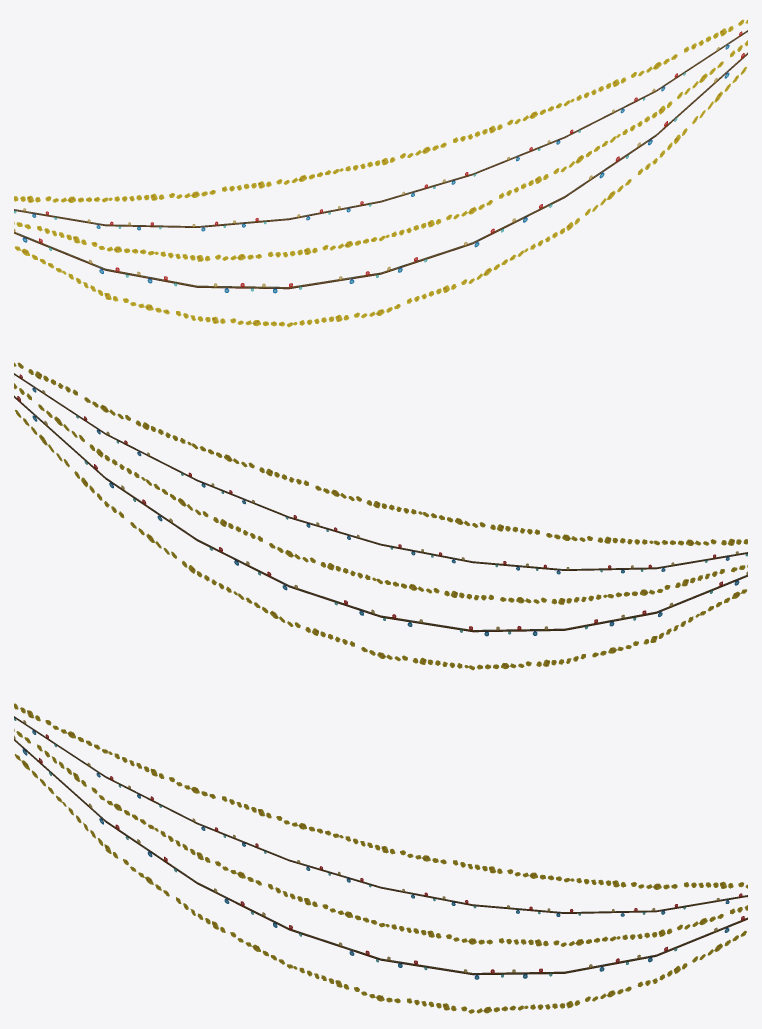
Rendered from christmas_light.FBX.
The picture shows the model from 3 angles, top to bottom: view 1: azimuth 30°, elevation 25°; view 2: azimuth 150°, elevation 25°; view 3: azimuth 330°, elevation 25°; orthographic projection.
Visible parts, largest first — view 1: christmas_light; view 2: christmas_light; view 3: christmas_light.
Boxes of the visible parts, box(x1,y1,x2,y2) form: christmas_light: box(14, 19, 747, 327); christmas_light: box(14, 362, 747, 670); christmas_light: box(14, 703, 747, 1013).
Bounding box in the file's own units: 846 × 233 × 1.93e-05.
1 material, 1 textured.
